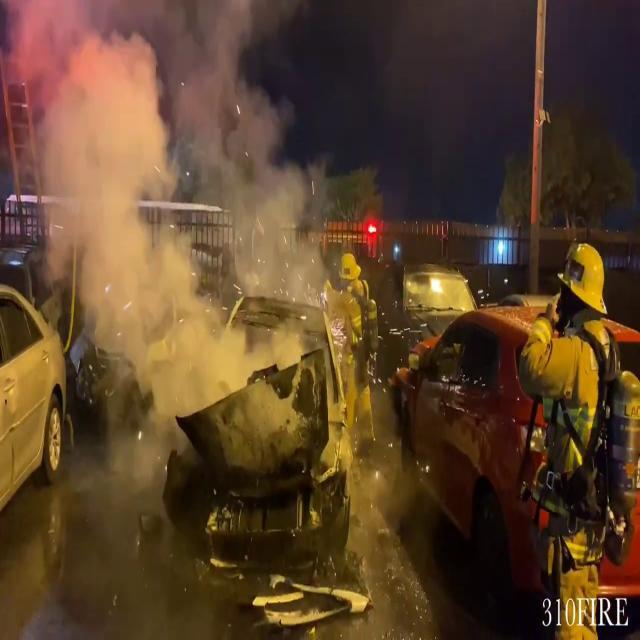Smoke: (11, 0, 327, 391)
